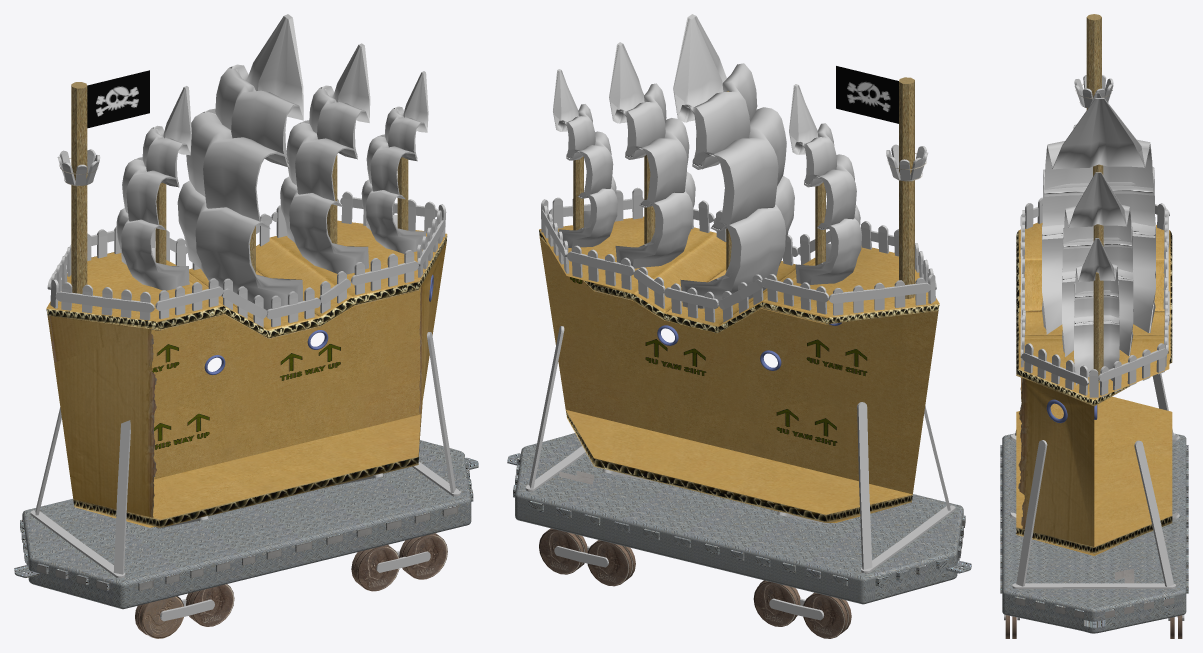
File: Boat - 4.fbx
3 renders of one model, left to right at view 1: azimuth 30°, elevation 25°; view 2: azimuth 150°, elevation 25°; view 3: azimuth 270°, elevation 25°, orthographic. The views are drawn at different scales.
Visible parts, largest first — view 1: Boat, Sails, Train_Carriage, Guard_Rail, Flag_Pole_and_Crows_Nest, Wheels_Back_1, Wheels_Front_1, Support_Slats_Front, Support_Slats_Back; view 2: Boat, Sails, Train_Carriage, Guard_Rail, Flag_Pole_and_Crows_Nest, Wheels_Front_2, Wheels_Back_2, Support_Slats_Front, Support_Slats_Back; view 3: Boat, Sails, Train_Carriage, Guard_Rail, Support_Slats_Back, Flag_Pole_and_Crows_Nest, Support_Slats_Front, Portholes2.
Boxes of the visible parts, box(x1,y1,x2,y2) form: Boat: box(46, 220, 447, 527); Sails: box(116, 14, 428, 310); Train_Carriage: box(14, 440, 478, 609); Guard_Rail: box(47, 191, 446, 327); Flag_Pole_and_Crows_Nest: box(57, 70, 149, 293); Wheels_Back_1: box(351, 533, 447, 591); Wheels_Front_1: box(135, 584, 234, 638); Support_Slats_Front: box(30, 407, 130, 578); Support_Slats_Back: box(412, 332, 460, 496); Boat: box(539, 216, 939, 522); Sails: box(553, 14, 861, 308); Train_Carriage: box(507, 433, 971, 604); Guard_Rail: box(541, 187, 936, 322); Flag_Pole_and_Crows_Nest: box(836, 66, 928, 298); Wheels_Front_2: box(753, 580, 851, 638); Wheels_Back_2: box(539, 528, 635, 586); Support_Slats_Front: box(857, 402, 955, 573); Support_Slats_Back: box(525, 326, 585, 491); Boat: box(1016, 222, 1172, 555); Sails: box(1042, 92, 1155, 385); Train_Carriage: box(1000, 433, 1188, 633); Guard_Rail: box(1020, 197, 1169, 399); Support_Slats_Back: box(1012, 440, 1175, 589); Flag_Pole_and_Crows_Nest: box(1074, 14, 1113, 109); Support_Slats_Front: box(1013, 374, 1175, 435); Portholes2: box(1046, 399, 1097, 423).
Size of the model in its own units: 8.4 by 9.51 by 3.24.
